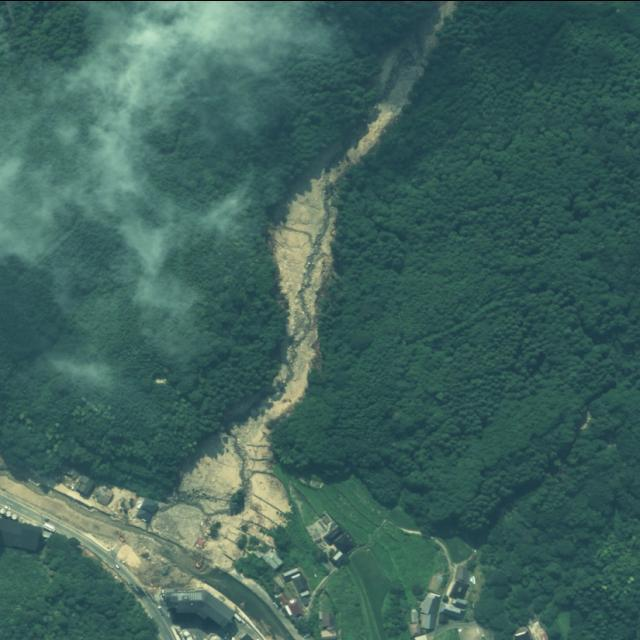landslide: (177, 0, 453, 578)
